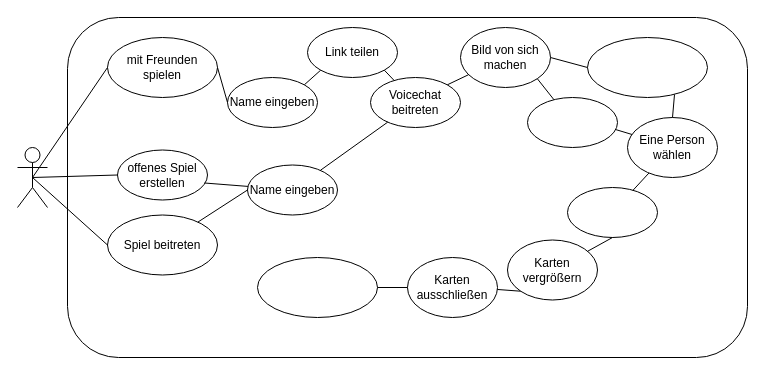
Some shapes in this 765 by 375 pixel diagram are drawn without their labels. Here are the shapes that lost their labels. From the top down, the box of each, then its label:
(586, 36, 708, 98): random Set zusammenstellen lassen
(526, 96, 618, 148): Jeder Nutzer wählt Karten
(16, 146, 48, 208): User
(566, 186, 658, 238): Spiel starten
(256, 256, 378, 318): Spiel beendet, Gewinner wird gewählt
